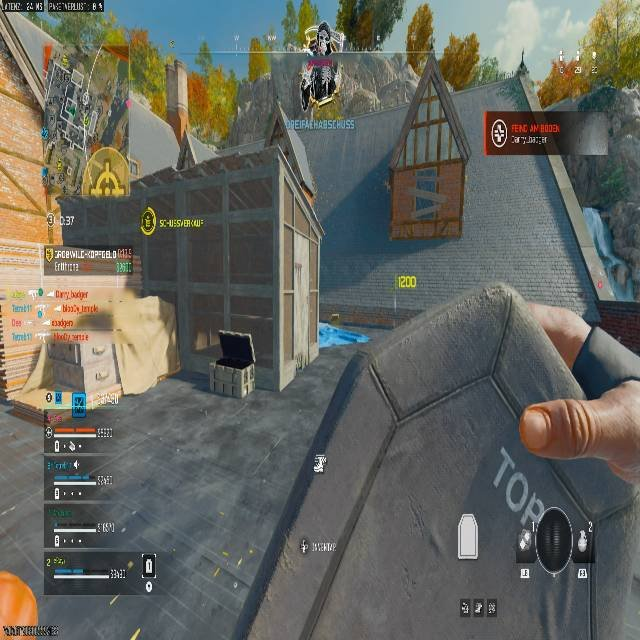head: (318, 21, 329, 31)
player: (303, 22, 340, 102)
